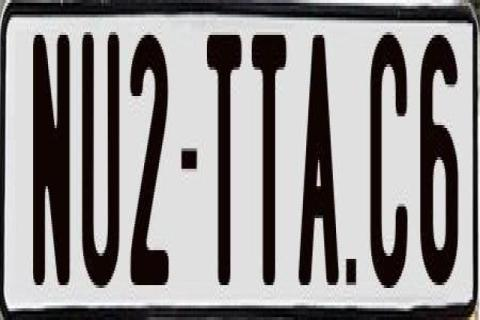0: (128, 26, 172, 291), (419, 29, 460, 279)
A: (296, 32, 342, 282)
C: (368, 27, 411, 297)
N: (30, 26, 68, 288)
T: (252, 29, 290, 291), (205, 29, 240, 297)
U: (80, 23, 123, 285)
